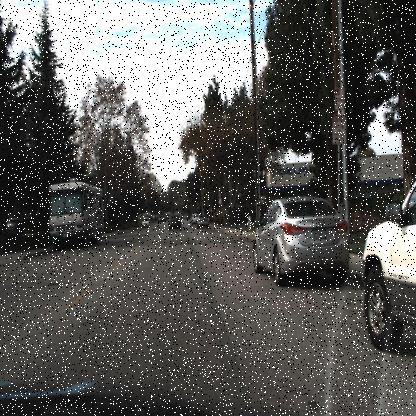car: (362, 169, 415, 355), (250, 194, 351, 288), (164, 209, 186, 235), (196, 213, 209, 231), (190, 210, 200, 226), (141, 216, 152, 230)
truck: (46, 174, 105, 249)
